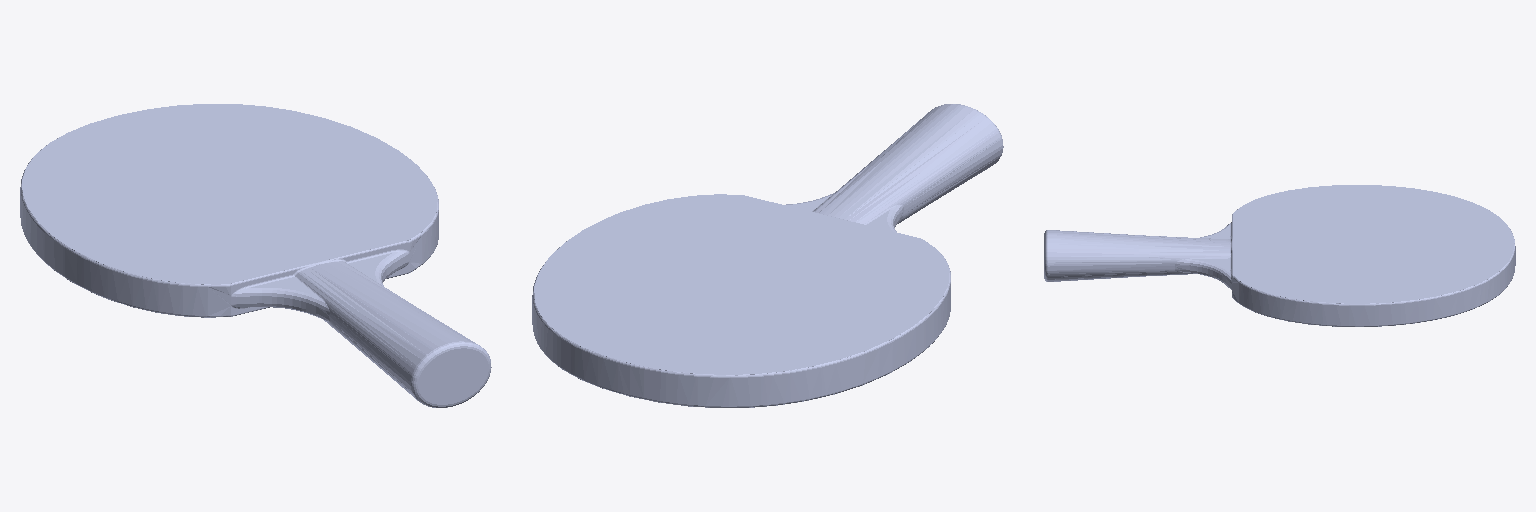
The robot description file, URDF, robot "tennis_bat1":
<?xml version="1.0" encoding="utf-8"?>
<!-- This URDF was automatically created by SolidWorks to URDF Exporter! Originally created by Stephen Brawner (brawner@gmail.com) 
     Commit Version: 1.6.0-4-g7f85cfe  Build Version: 1.6.7995.38578
     For more information, please see http://wiki.ros.org/sw_urdf_exporter -->
<robot
  name="tennis_bat1">
  <link
    name="base_link">
    <inertial>
      <origin
        xyz="0.11877 0.17649 0.22191"
        rpy="0 0 0" />
      <mass
        value="0.32759" />
      <inertia
        ixx="0.0012227"
        ixy="3.9098E-09"
        ixz="1.5501E-08"
        iyy="0.0016423"
        iyz="-5.9381E-10"
        izz="0.00043154" />
    </inertial>
    <visual>
      <origin
        xyz="0 0 0"
        rpy="0 0 0" />
      <geometry>
        <mesh
          filename="package://tennis_bat1/meshes/base_link.STL" />
      </geometry>
      <material
        name="">
        <color
          rgba="0.79216 0.81961 0.93333 1" />
      </material>
    </visual>
    <collision>
      <origin
        xyz="0 0 0"
        rpy="0 0 0" />
      <geometry>
        <mesh
          filename="package://tennis_bat1/meshes/base_link.STL" />
      </geometry>
    </collision>
  </link>
</robot>

--- Render facts (derived) ---
3 views of the same robot in one strip: view 1: azimuth 30°, elevation 25°; view 2: azimuth 150°, elevation 25°; view 3: azimuth 270°, elevation 25° (orthographic).
Robot: tennis_bat1 — 1 links, 0 joints (none); root link base_link; default pose: all joints at 0.
Visible links, largest first — view 1: base_link; view 2: base_link; view 3: base_link.
Boxes of the visible links, left/top/right/bottom form: base_link: left=20, top=104, right=491, bottom=407; base_link: left=532, top=104, right=1003, bottom=407; base_link: left=1044, top=185, right=1515, bottom=326.
Bounding box of the posed robot: 0.1533 × 0.2545 × 0.0267 m (x, y, z).
1 mesh visuals loaded from 1 distinct referenced files (1 binary STL).
